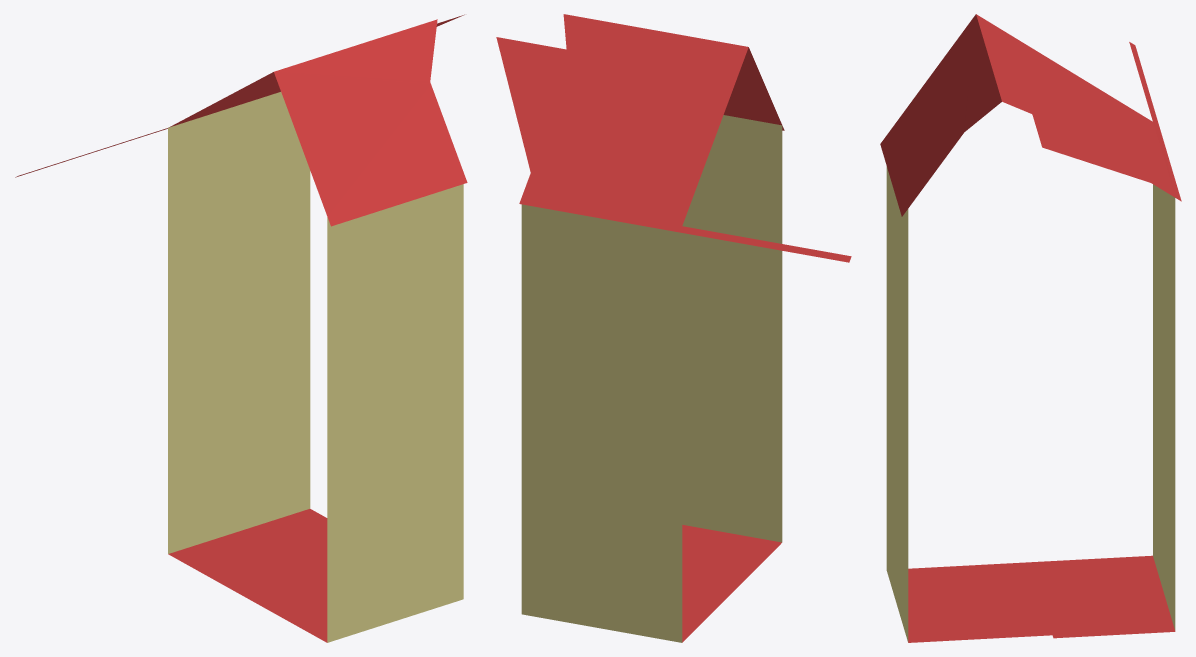
3 views of the same model, side by side, from view 1: azimuth 30°, elevation 25°; view 2: azimuth 150°, elevation 25°; view 3: azimuth 270°, elevation 25° (orthographic). The views are drawn at different scales.
Bounding box in the file's own units: 18.88 × 11.9 × 24.01.
